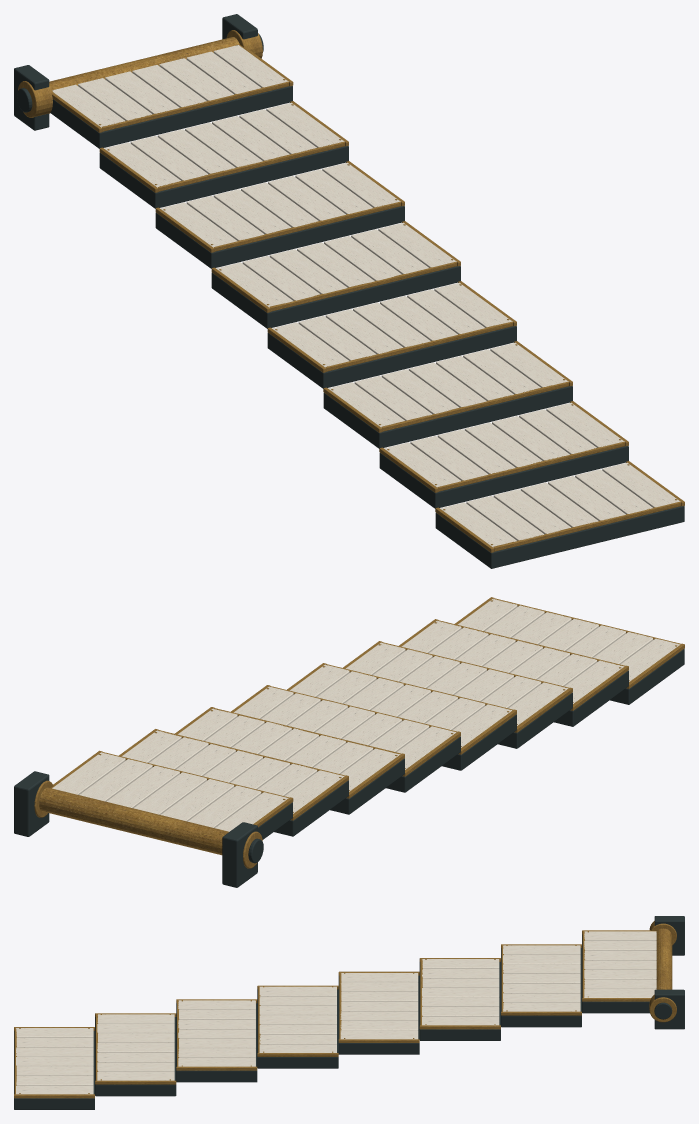
File: return-stair.glb
3 views of the same model, one above another, from view 1: azimuth 30°, elevation 25°; view 2: azimuth 150°, elevation 25°; view 3: azimuth 270°, elevation 25° (orthographic). The views are drawn at different scales.
Parts seen in each view (by area): view 1: ReturnStairFlightMesh, ReturnStairHingeMesh; view 2: ReturnStairFlightMesh, ReturnStairHingeMesh; view 3: ReturnStairFlightMesh, ReturnStairHingeMesh.
Boxes of the visible parts, x1=… form: ReturnStairFlightMesh: x1=50, y1=44, x2=684, y2=568; ReturnStairHingeMesh: x1=14, y1=14, x2=263, y2=130; ReturnStairFlightMesh: x1=51, y1=597, x2=684, y2=839; ReturnStairHingeMesh: x1=14, y1=771, x2=263, y2=887; ReturnStairFlightMesh: x1=14, y1=930, x2=657, y2=1109; ReturnStairHingeMesh: x1=649, y1=916, x2=684, y2=1029.
Bounding box in the file's own units: 4.85 × 3.28 × 16.53.
Materials: 3 (2 with a texture image).
